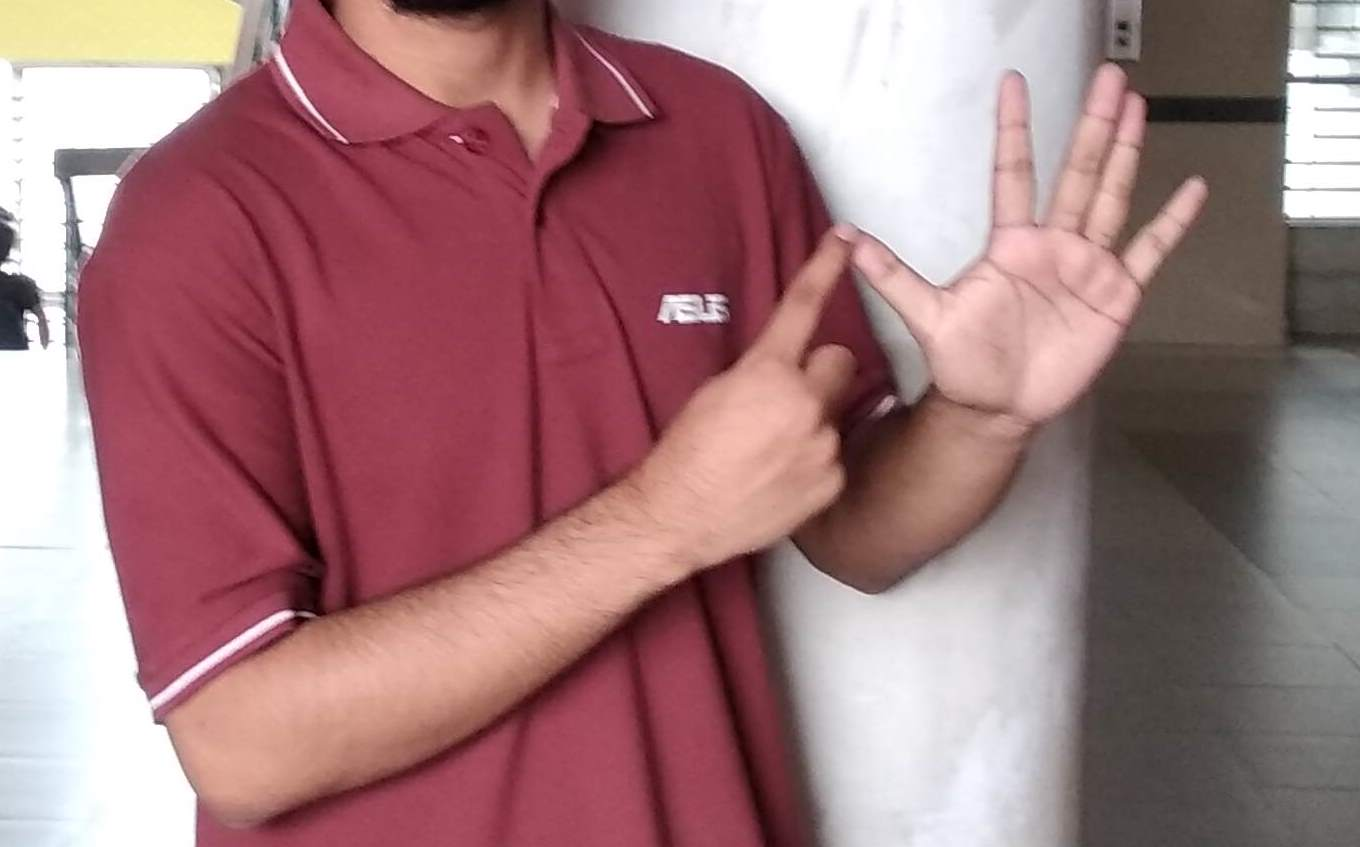a: (691, 61, 1203, 508)
